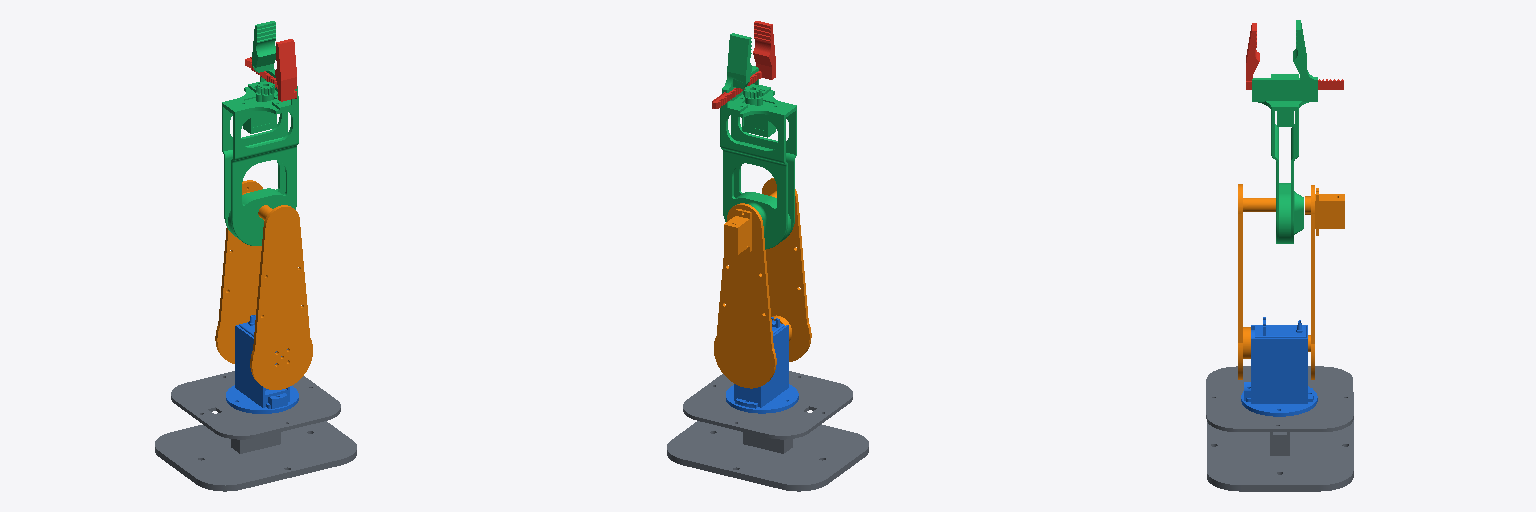
The robot description file, URDF, robot "arm4":
<?xml version="1.0"?>
<!-- arm4 (world-coordinate STL). 모든 관절 0 = CAD 조립 자세.
     STL은 조립 위치(mm) 그대로, scale 0.001로 m 변환.
     joint origin = 자식축-부모축, visual origin = -누적축(월드 상쇄).
     회전축: 요(X4.23,Y-9.62) / 어깨피치(Y-11.21,Z74.46) / 팔꿈치피치(Y-5.31,Z183.40) [기둥 35mm] [mm] -->
<robot name="arm4">
  <material name="base_grey"><color rgba="0.45 0.48 0.52 1"/></material>
  <material name="blue"><color rgba="0.18 0.50 0.92 1"/></material>
  <material name="orange"><color rgba="1.00 0.58 0.10 1"/></material>
  <material name="green"><color rgba="0.16 0.75 0.45 1"/></material>
  <material name="red"><color rgba="0.92 0.26 0.21 1"/></material>

  <link name="base_link">
    <inertial><mass value="0.1"/><inertia ixx="1e-4" iyy="1e-4" izz="1e-4" ixy="0" ixz="0" iyz="0"/></inertial>
    <visual>
      <origin xyz="0 0 0"/>
      <geometry><mesh filename="base_link.stl" scale="0.001 0.001 0.001"/></geometry>
      <material name="base_grey"/>
    </visual>
  </link>

  <link name="shoulder">
    <inertial><mass value="0.05"/><inertia ixx="1e-4" iyy="1e-4" izz="1e-4" ixy="0" ixz="0" iyz="0"/></inertial>
    <visual>
      <origin xyz="-0.00423 0.00962 0"/>
      <geometry><mesh filename="shoulder.stl" scale="0.001 0.001 0.001"/></geometry>
      <material name="blue"/>
    </visual>
  </link>

  <link name="link1">
    <inertial><mass value="0.05"/><inertia ixx="1e-4" iyy="1e-4" izz="1e-4" ixy="0" ixz="0" iyz="0"/></inertial>
    <visual>
      <origin xyz="-0.00423 0.01121 -0.07446"/>
      <geometry><mesh filename="link1.stl" scale="0.001 0.001 0.001"/></geometry>
      <material name="orange"/>
    </visual>
  </link>

  <link name="link2">
    <inertial><mass value="0.05"/><inertia ixx="1e-4" iyy="1e-4" izz="1e-4" ixy="0" ixz="0" iyz="0"/></inertial>
    <visual>
      <origin xyz="-0.00423 0.00531 -0.18340"/>
      <geometry><mesh filename="link2.stl" scale="0.001 0.001 0.001"/></geometry>
      <material name="green"/>
    </visual>
  </link>

  <link name="moving_jaw">
    <inertial><mass value="0.02"/><inertia ixx="1e-5" iyy="1e-5" izz="1e-5" ixy="0" ixz="0" iyz="0"/></inertial>
    <visual>
      <origin xyz="-0.00423 0.00531 -0.18340"/>
      <geometry><mesh filename="moving_jaw.stl" scale="0.001 0.001 0.001"/></geometry>
      <material name="red"/>
    </visual>
  </link>

  <!-- J1: 베이스 요 (수직 Z, X4.23 Y-9.62 통과) -->
  <joint name="joint1_yaw" type="revolute">
    <parent link="base_link"/><child link="shoulder"/>
    <origin xyz="0.00423 -0.00962 0"/><axis xyz="0 0 1"/>
    <limit lower="-1.5708" upper="1.5708" effort="2" velocity="2"/>
  </joint>

  <!-- J2: 어깨 피치 (X축, Y-11.21 Z64.46) -->
  <joint name="joint2_shoulder" type="revolute">
    <parent link="shoulder"/><child link="link1"/>
    <origin xyz="0 -0.00159 0.07446"/><axis xyz="0 -1 0"/>
    <limit lower="-1.5708" upper="1.5708" effort="2" velocity="2"/>
  </joint>

  <!-- J3: 팔꿈치 피치 (X축, Y-5.31 Z173.40) -->
  <joint name="joint3_elbow" type="revolute">
    <parent link="link1"/><child link="link2"/>
    <origin xyz="0 0.00590 0.10894"/><axis xyz="0 -1 0"/>
    <limit lower="-2.0944" upper="2.0944" effort="2" velocity="2"/>
  </joint>

  <!-- J4: 그리퍼 랙앤피니언 prismatic. 우측 죠가 X로 직선이동(스트로크 30mm).
          방향 반대면 axis를 "1 0 0"으로 바꿀 것 -->
  <joint name="gripper_joint" type="prismatic">
    <parent link="link2"/><child link="moving_jaw"/>
    <origin xyz="0 0 0"/><axis xyz="0 1 0"/>
    <limit lower="-0.0208" upper="0.0092" effort="5" velocity="0.1"/>
  </joint>
</robot>

--- Render facts (derived) ---
3 views of the same robot in one strip: view 1: azimuth 30°, elevation 25°; view 2: azimuth 150°, elevation 25°; view 3: azimuth 270°, elevation 25° (orthographic).
Robot: arm4 — 5 links, 4 joints (3 revolute, 1 prismatic); root link base_link; default pose: all joints at 0.
Links seen in each view (by area): view 1: base_link, link1, link2, shoulder, moving_jaw; view 2: base_link, link1, link2, shoulder, moving_jaw; view 3: base_link, shoulder, link2, link1, moving_jaw.
Link boxes in pixels (x1,y1,x2,y2): base_link: (155, 371, 356, 491); link1: (215, 180, 312, 389); link2: (222, 21, 298, 245); shoulder: (226, 315, 298, 413); moving_jaw: (245, 39, 296, 101); base_link: (667, 371, 868, 491); link1: (714, 178, 811, 388); link2: (720, 33, 796, 249); shoulder: (726, 317, 798, 413); moving_jaw: (712, 21, 775, 108); base_link: (1206, 366, 1353, 491); shoulder: (1241, 317, 1317, 416); link2: (1252, 20, 1317, 243); link1: (1238, 184, 1344, 379); moving_jaw: (1246, 23, 1343, 89).
Bounding box of the posed robot: 0.136 × 0.106 × 0.3466 m (x, y, z).
5 mesh visuals loaded from 5 distinct referenced files (4 binary STL, 1 ASCII STL).
